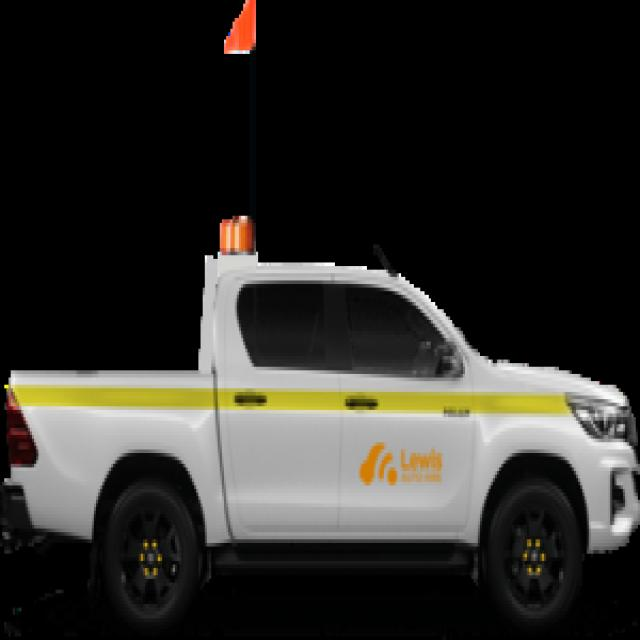light_vehicle: (4, 215, 638, 626)
